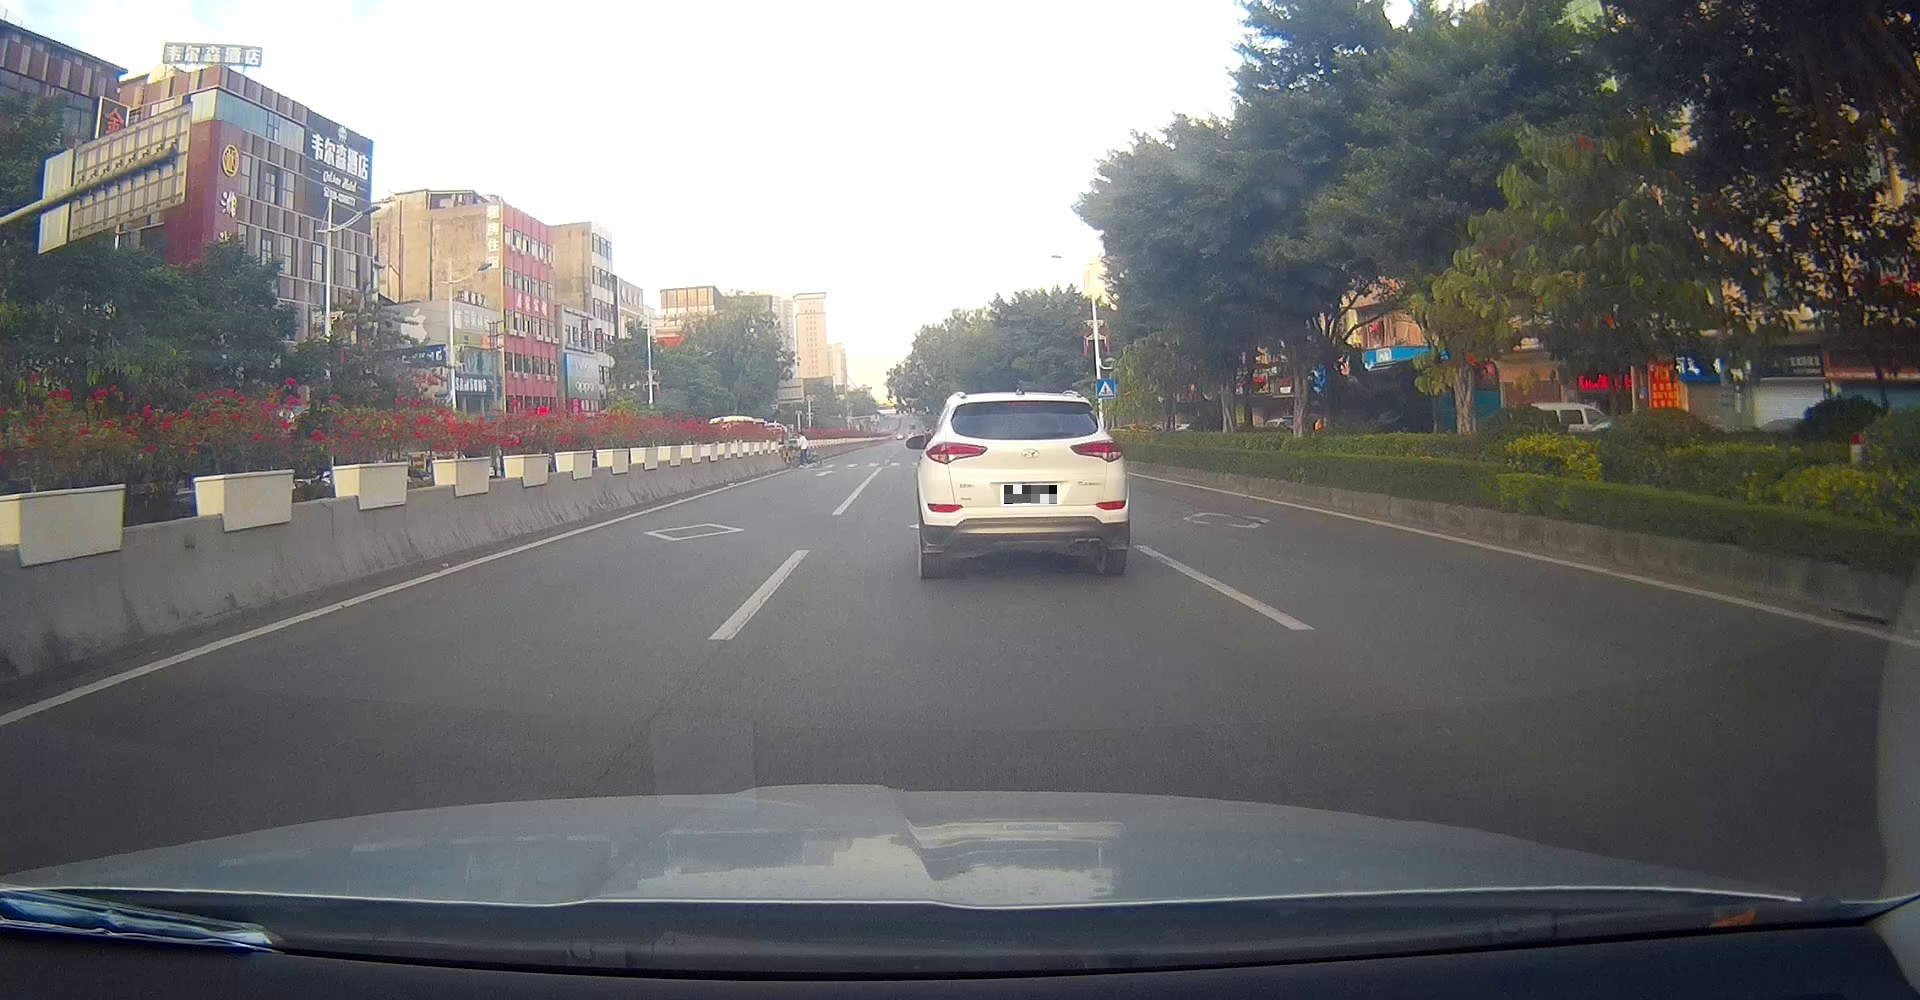L_light: (924, 442, 987, 464)
R_light: (1070, 438, 1124, 463)
T_light: (1004, 400, 1040, 406)
day-no: (917, 390, 1129, 577)
plate_1: (1004, 485, 1057, 504)
